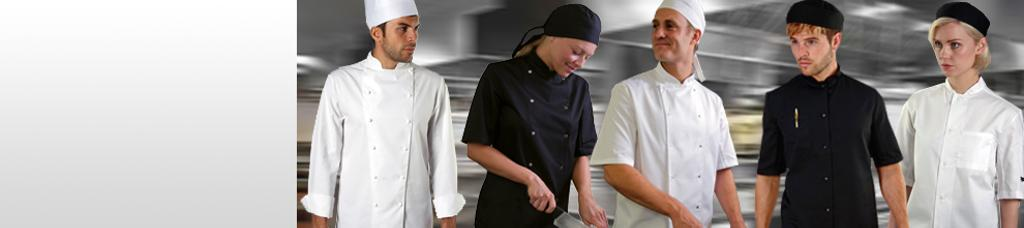face: (933, 26, 974, 77), (791, 26, 832, 76), (651, 10, 690, 60), (383, 14, 418, 62), (558, 33, 583, 78)
